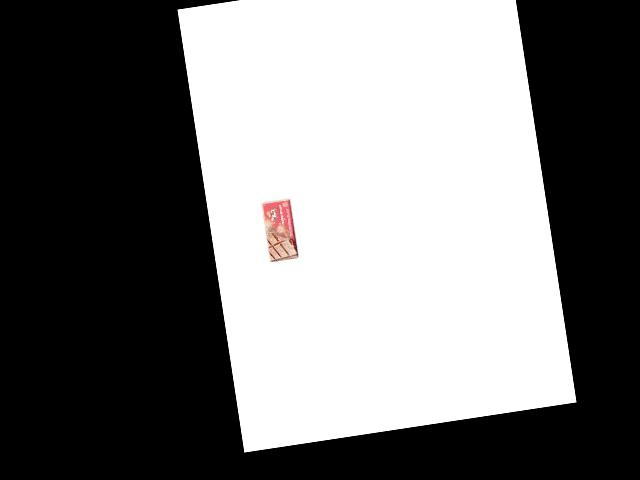chocolate: (259, 197, 300, 264)
